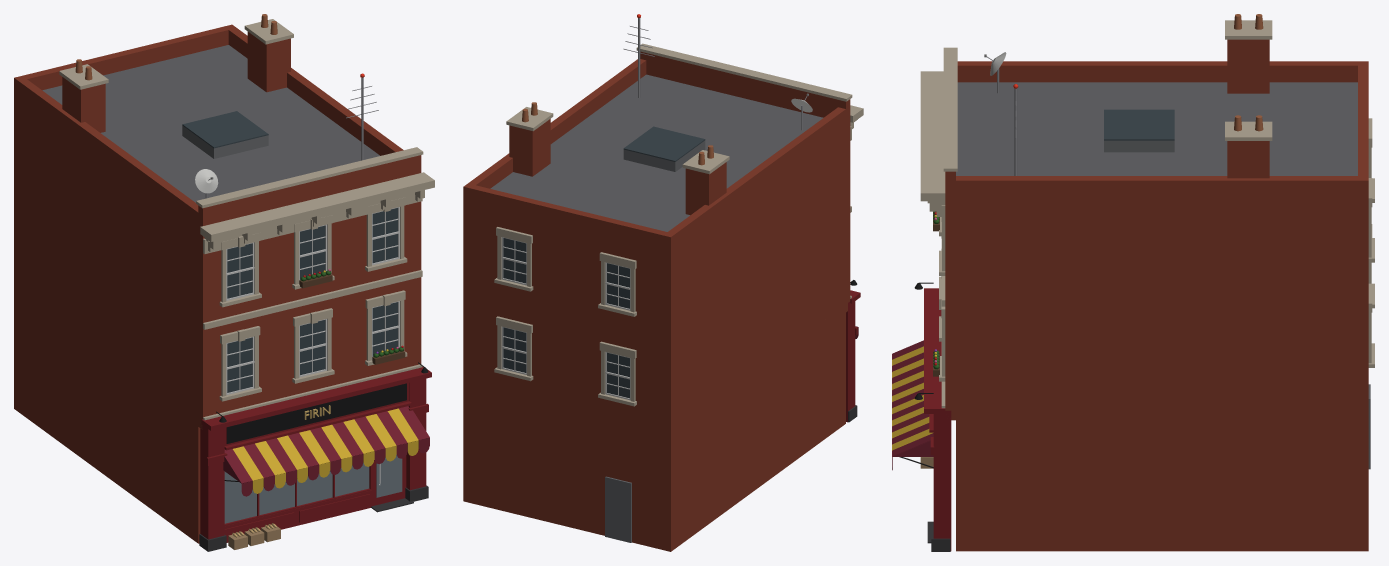
Rendered from dukkan_firin.glb.
3 views of the same model, side by side, from view 1: azimuth 30°, elevation 25°; view 2: azimuth 150°, elevation 25°; view 3: azimuth 270°, elevation 25° (orthographic). The views are drawn at different scales.
Visible parts, largest first — view 1: Dukkan_Firin; view 2: Dukkan_Firin; view 3: Dukkan_Firin.
Boxes of the visible parts, <box> form: Dukkan_Firin: <box>14,14,434,551</box>; Dukkan_Firin: <box>463,14,863,551</box>; Dukkan_Firin: <box>892,14,1374,551</box>.
Bounding box in the file's own units: 8.2 × 14.18 × 13.69.
